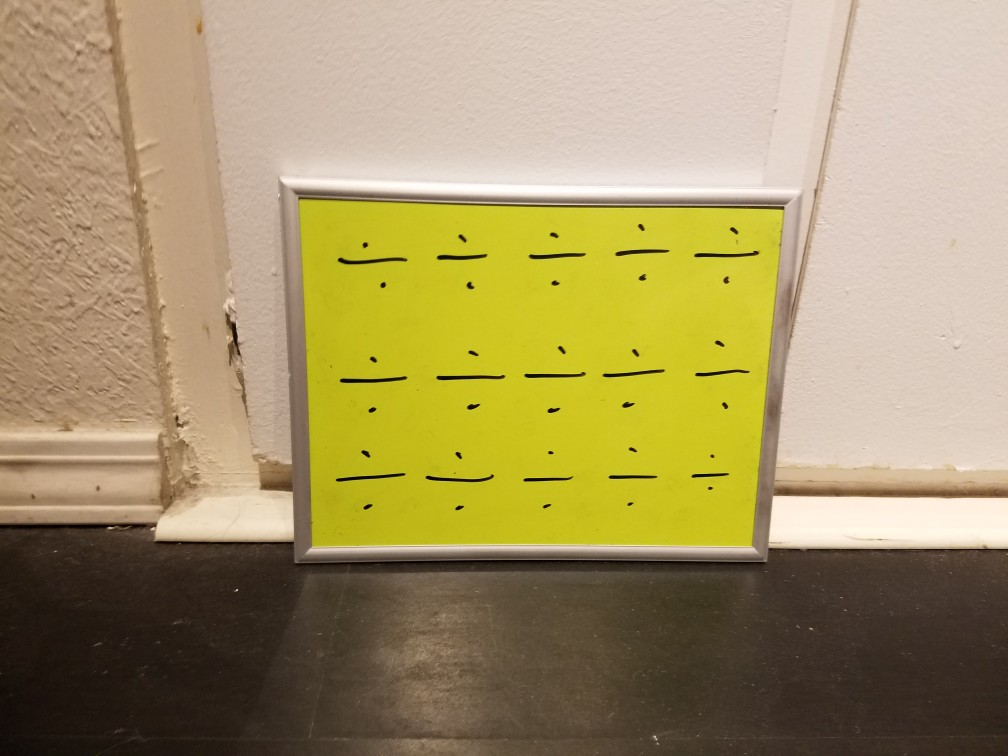div: (329, 341, 416, 418), (416, 441, 497, 521), (679, 334, 754, 420), (515, 340, 593, 418), (330, 436, 407, 515), (599, 339, 677, 415), (592, 439, 668, 517), (432, 341, 512, 415), (328, 226, 412, 292), (603, 212, 675, 286), (689, 220, 763, 291), (520, 222, 588, 293), (429, 227, 503, 291), (516, 444, 581, 515), (686, 441, 729, 500)
